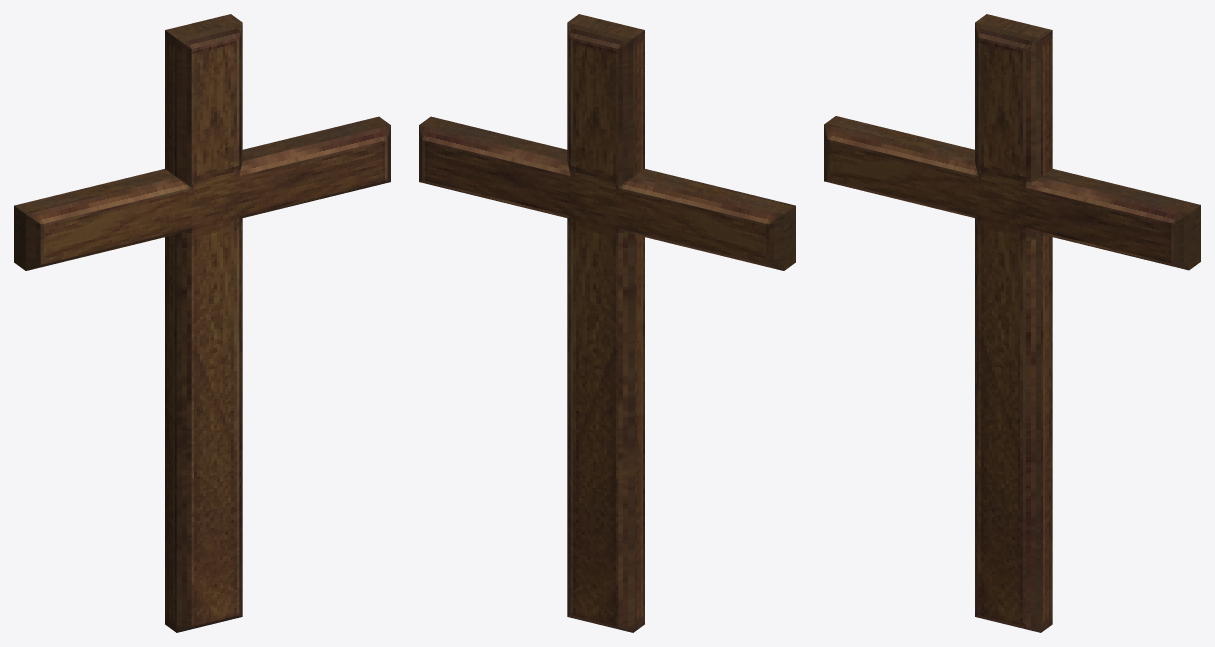
Rendered from blender_crucifix_1.glb.
3 views of the same model, side by side, from view 1: azimuth 30°, elevation 25°; view 2: azimuth 150°, elevation 25°; view 3: azimuth 330°, elevation 25° (orthographic).
Parts seen in each view (by area): view 1: blender_crucifix_1; view 2: blender_crucifix_1; view 3: blender_crucifix_1.
Boxes of the visible parts, bbox=[...] form: blender_crucifix_1: bbox=[14, 14, 390, 632]; blender_crucifix_1: bbox=[419, 14, 795, 632]; blender_crucifix_1: bbox=[824, 14, 1200, 632].
Bounding box in the file's own units: 0.18 × 0.28 × 0.02.
Materials: 1 (1 with a texture image).
